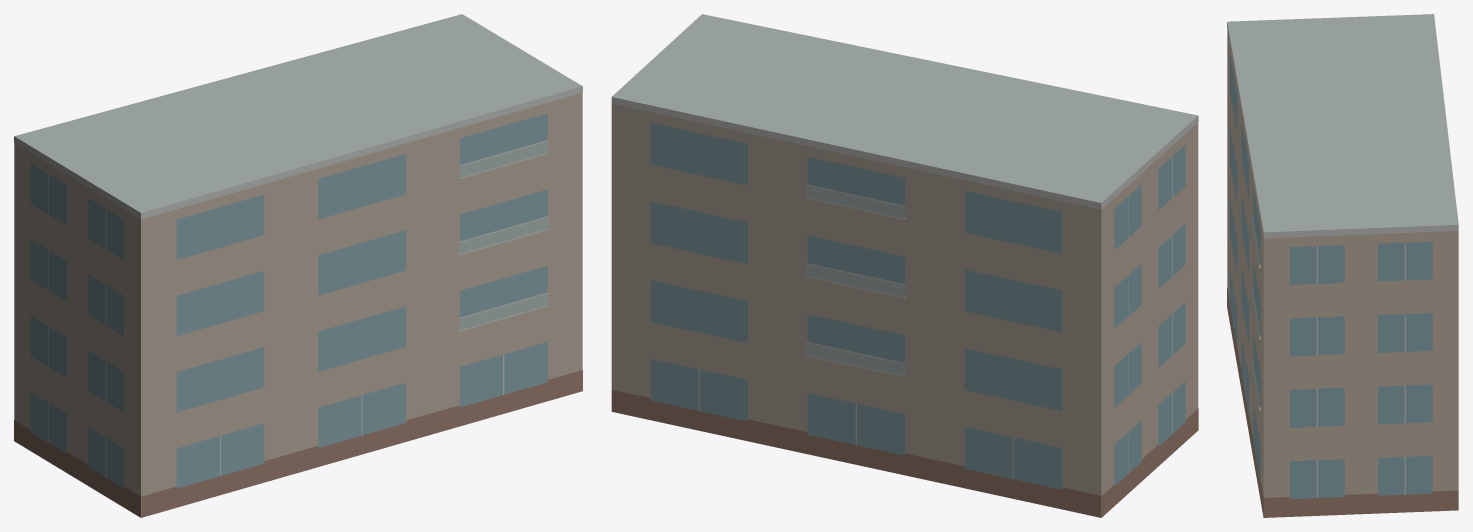
File: survey-upis-32759012.glb
3 renders of one model, left to right at view 1: azimuth 30°, elevation 25°; view 2: azimuth 150°, elevation 25°; view 3: azimuth 270°, elevation 25°, orthographic. The views are drawn at different scales.
Parts seen in each view (by area): view 1: survey-upis-32759012.tmp; view 2: survey-upis-32759012.tmp; view 3: survey-upis-32759012.tmp.
Boxes of the visible parts, <box> form: survey-upis-32759012.tmp: <box>14,14,582,517</box>; survey-upis-32759012.tmp: <box>611,14,1198,517</box>; survey-upis-32759012.tmp: <box>1227,14,1458,517</box>.
Bounding box in the file's own units: 18.87 × 11.5 × 8.46.
